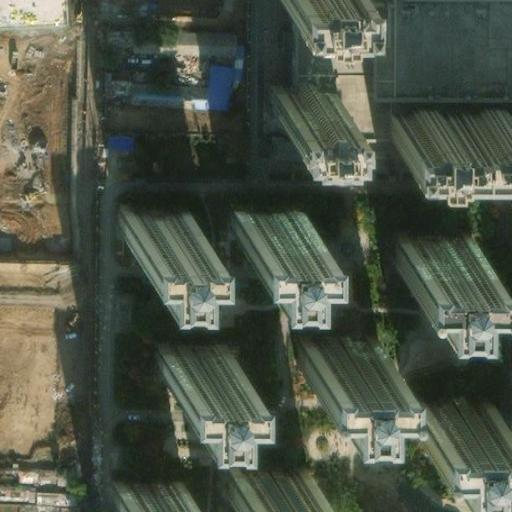building: (390, 0, 512, 83), (383, 113, 512, 157), (384, 225, 467, 281), (405, 388, 487, 444), (290, 334, 372, 389), (117, 61, 225, 101), (227, 462, 297, 512), (110, 199, 180, 249), (136, 318, 205, 368), (226, 199, 295, 249), (261, 81, 330, 123), (108, 477, 178, 512), (174, 29, 239, 57)
